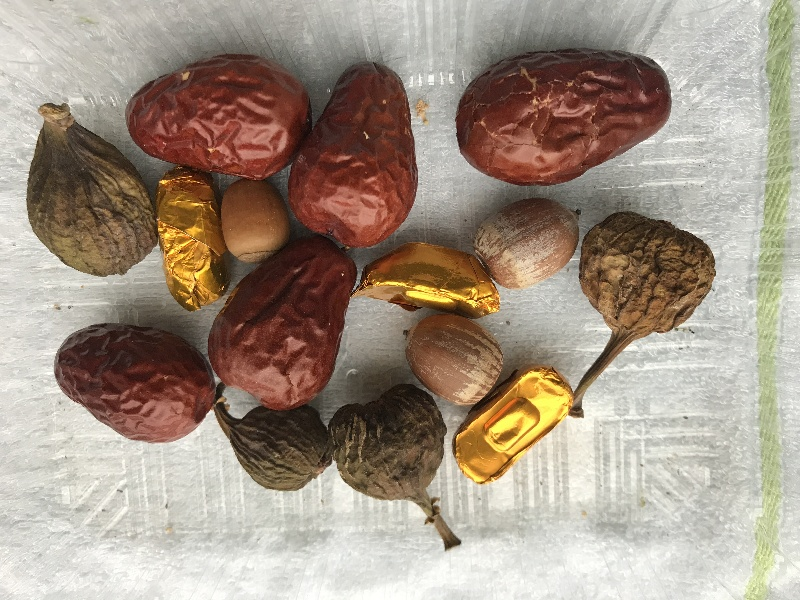date: (455, 47, 676, 187), (206, 237, 356, 412), (286, 61, 418, 250), (126, 53, 315, 181), (54, 322, 217, 444)
fig: (569, 215, 716, 427), (28, 103, 158, 276), (329, 385, 461, 548), (213, 383, 333, 493)
hazelnut: (474, 196, 580, 286), (405, 315, 507, 405), (218, 177, 292, 262)
